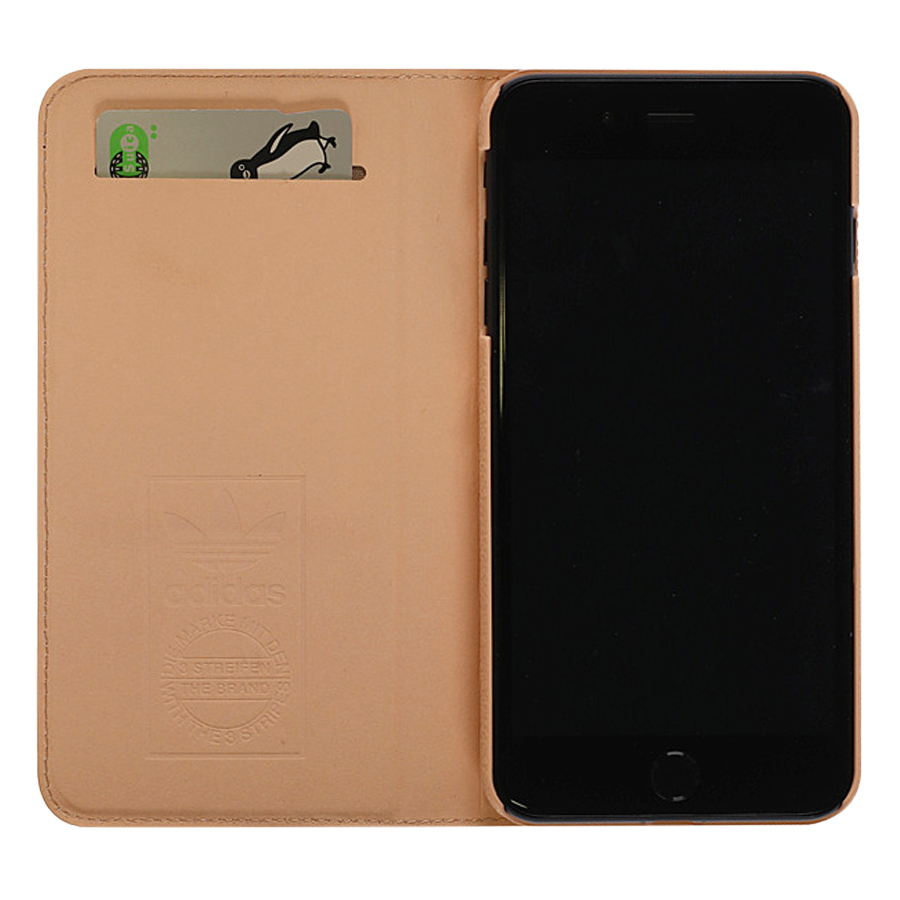Adidas: (160, 487, 296, 613)
